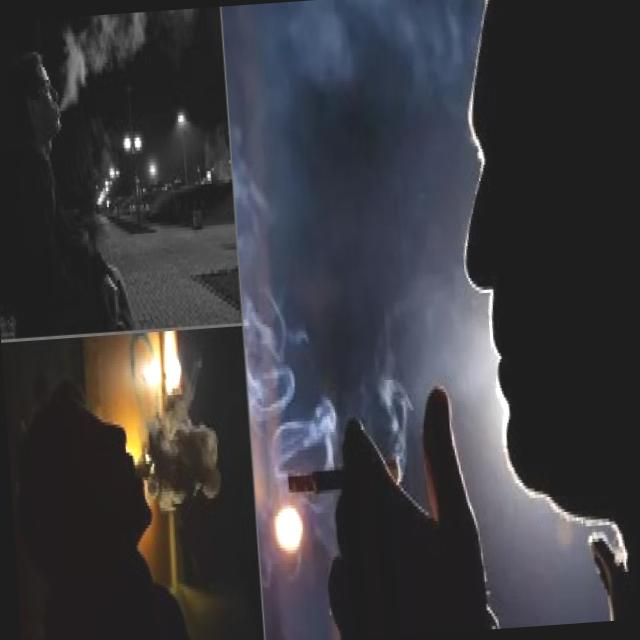cigarette: (280, 456, 402, 499)
